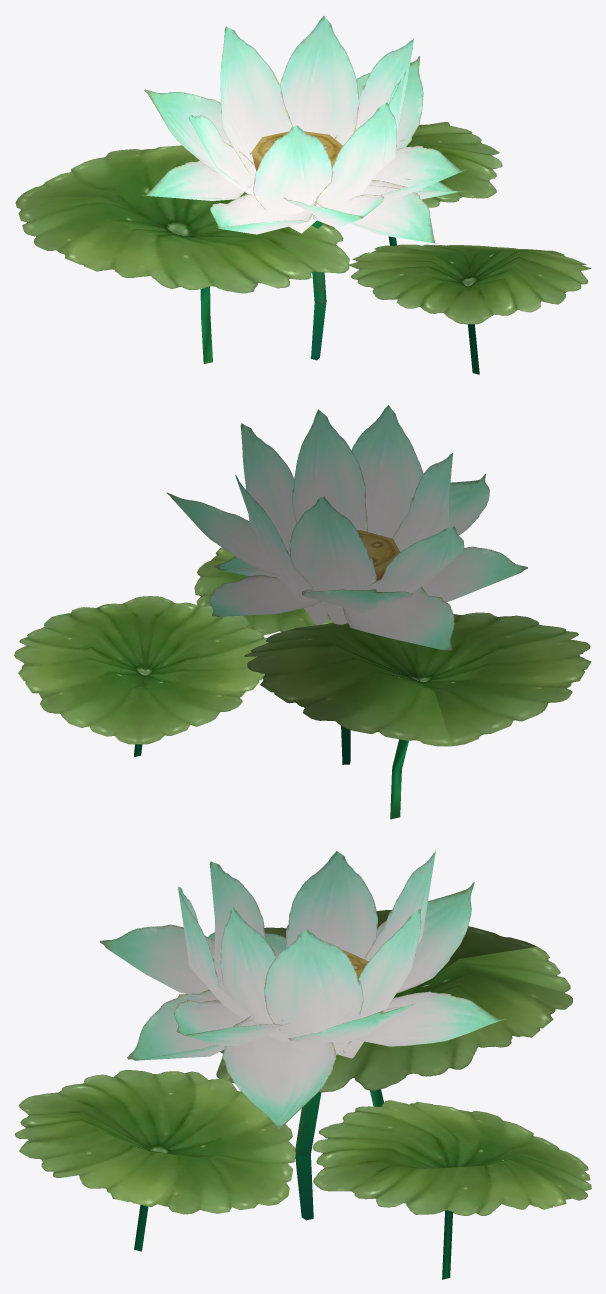
The picture shows the model from 3 angles, top to bottom: view 1: azimuth 30°, elevation 25°; view 2: azimuth 150°, elevation 25°; view 3: azimuth 270°, elevation 25°; orthographic projection. The views are drawn at different scales.
Visible parts, largest first — view 1: MC_M_10002; view 2: MC_M_10002; view 3: MC_M_10002.
Boxes of the visible parts, x1,y1,x2,y2 form: MC_M_10002: [15, 16, 591, 374]; MC_M_10002: [14, 405, 591, 819]; MC_M_10002: [14, 850, 591, 1279].
Bounding box in the file's own units: 0.5544 × 0.3416 × 0.497.
1 material, 1 textured.
